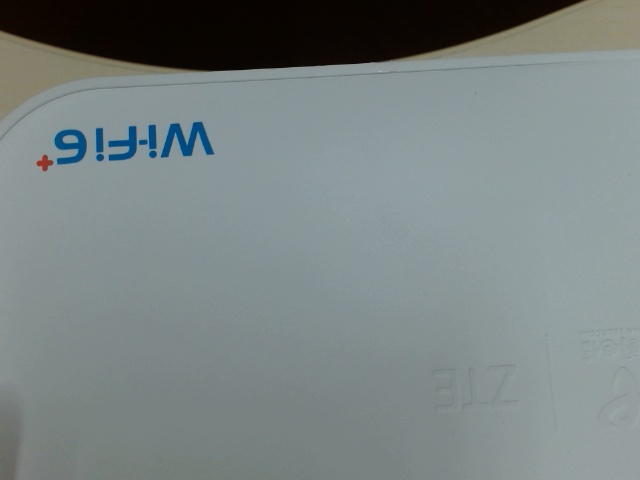AJ_ZTEWIFI6Plus: (29, 118, 225, 182)
